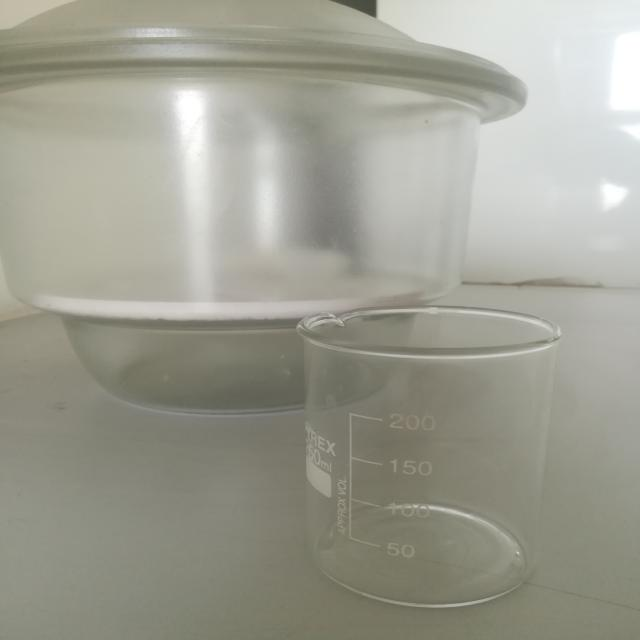Beaker: (274, 268, 593, 638)
